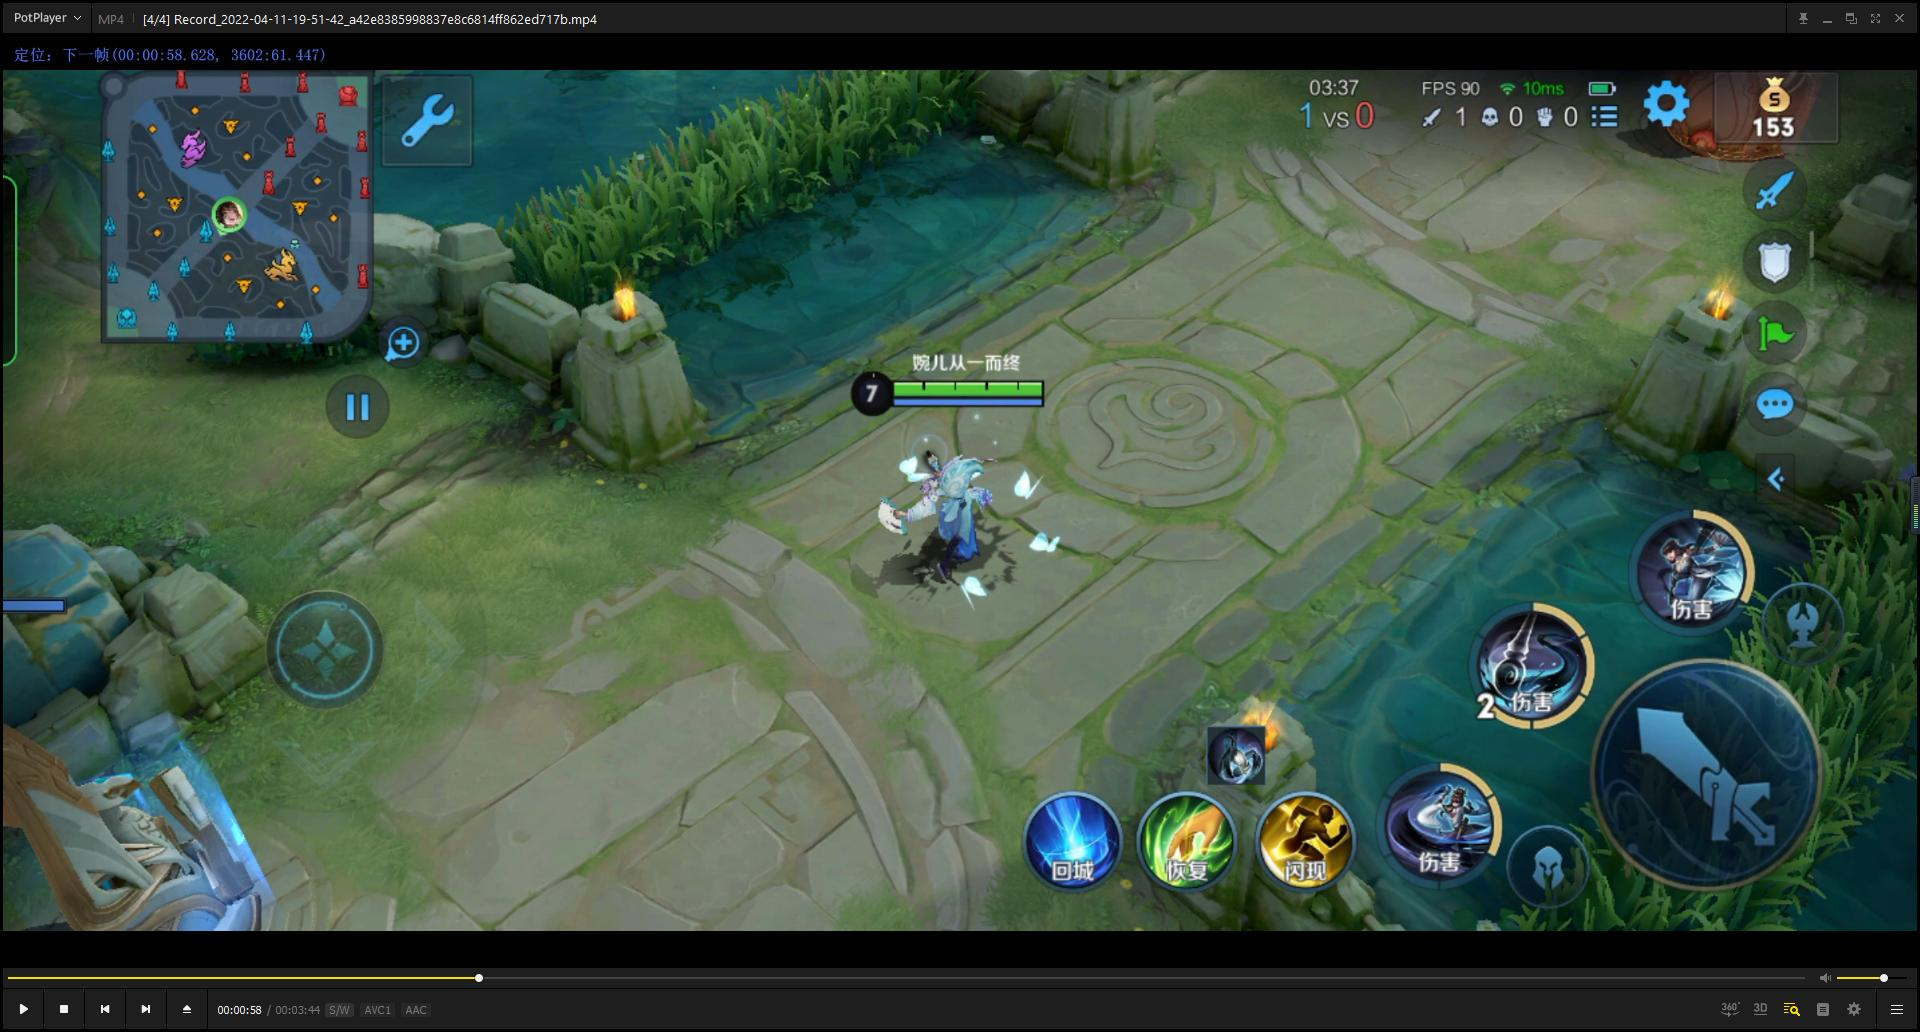Hero: (850, 428, 1039, 590)
Tower: (4, 649, 262, 932), (1624, 78, 1832, 186)
